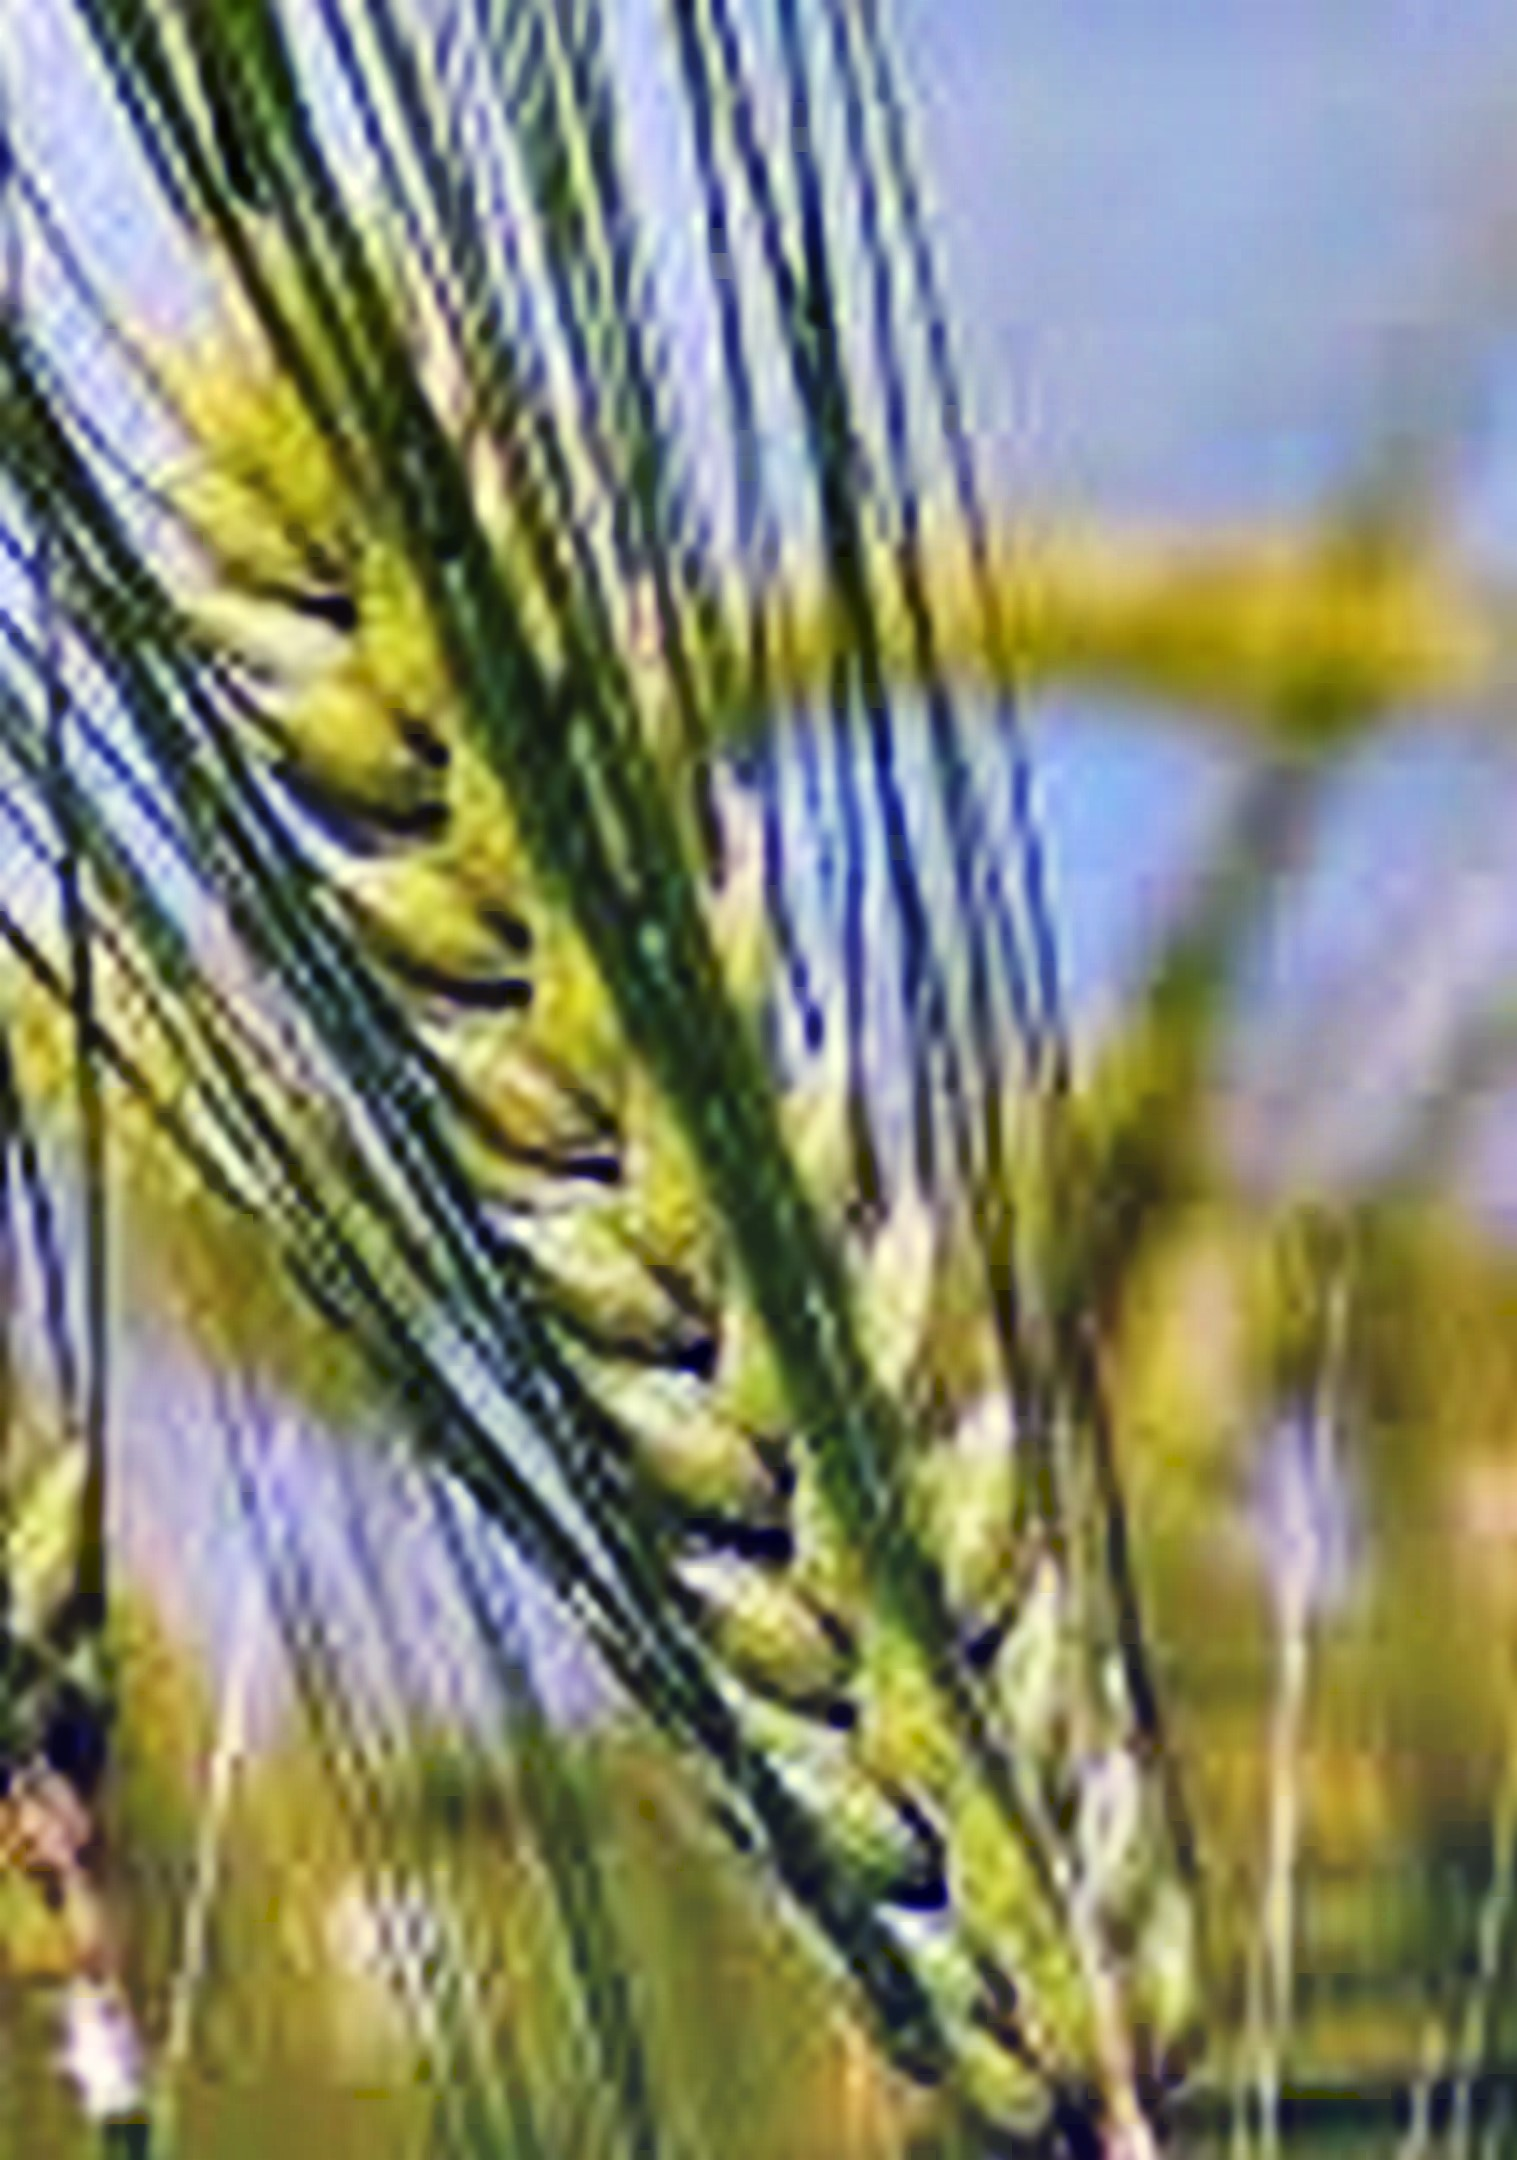Healthy Wheat: (121, 294, 1272, 2124)
